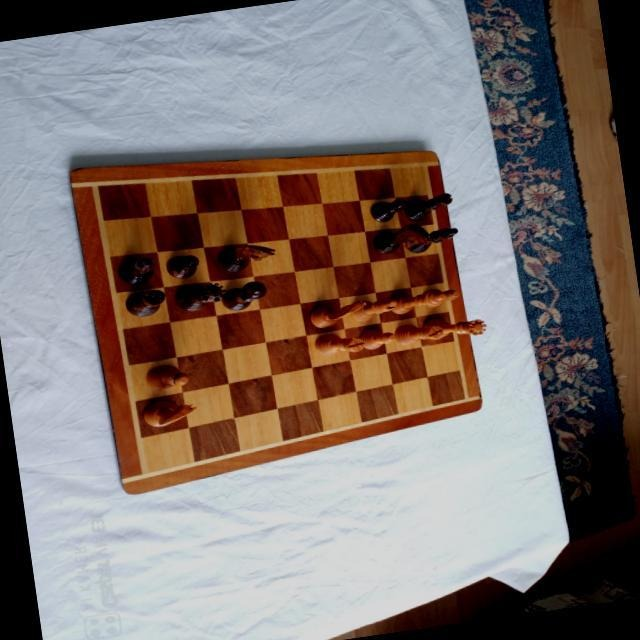black-bishop: (402, 224, 461, 256), (116, 255, 158, 289)
black-king: (218, 278, 270, 314)
black-knight: (216, 240, 277, 276), (371, 222, 432, 258)
black-pawn: (165, 251, 203, 282), (369, 196, 410, 223)
black-queen: (173, 279, 228, 314)
black-rook: (404, 192, 456, 223), (123, 287, 167, 319)
white-bishop: (348, 295, 399, 325), (142, 361, 189, 393)
white-king: (388, 286, 448, 318)
white-knight: (309, 297, 371, 330), (140, 394, 197, 429)
white-pawn: (358, 324, 398, 351), (419, 284, 461, 309)
white-queen: (422, 310, 488, 343)
white-rook: (314, 328, 366, 359), (393, 319, 445, 347)
